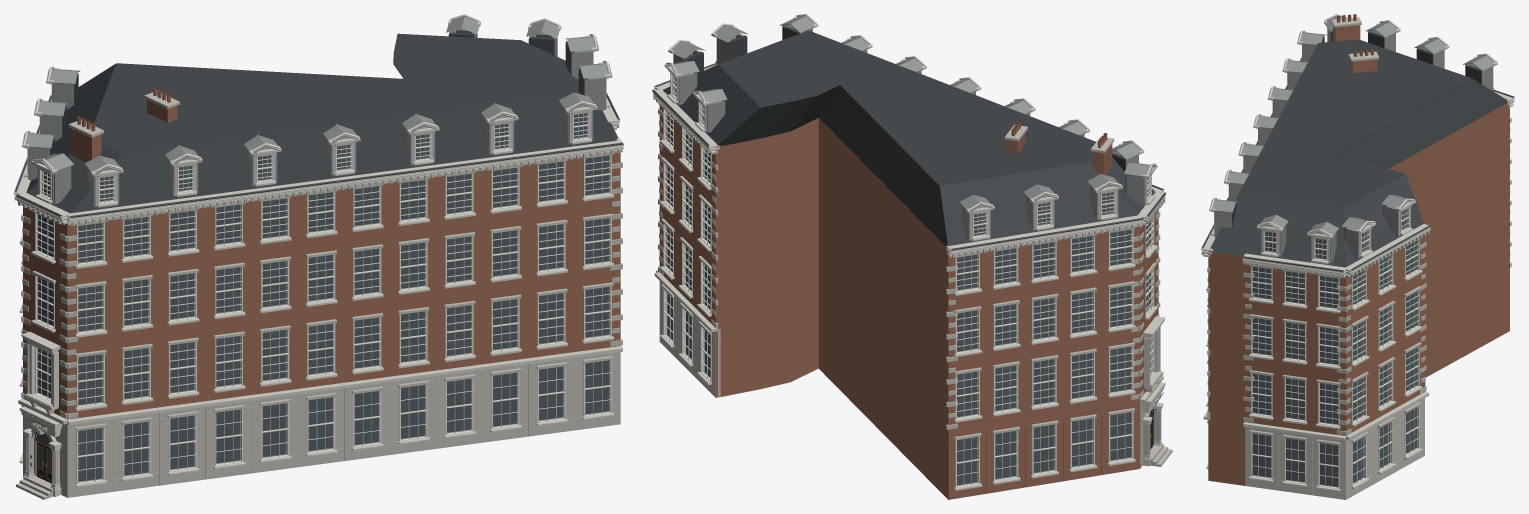
File: cow-exterior-b2945b3722f8.glb
3 views of the same model, side by side, from view 1: azimuth 30°, elevation 25°; view 2: azimuth 150°, elevation 25°; view 3: azimuth 270°, elevation 25° (orthographic). The views are drawn at different scales.
Visible parts, largest first — view 1: COW.001; view 2: COW.001; view 3: COW.001.
Part boxes in pixels (x1=…): COW.001: x1=14, y1=14, x2=623, y2=499; COW.001: x1=652, y1=14, x2=1172, y2=499; COW.001: x1=1201, y1=14, x2=1514, y2=499.
Size of the model in its own units: 38.37 by 22.48 by 22.3.
